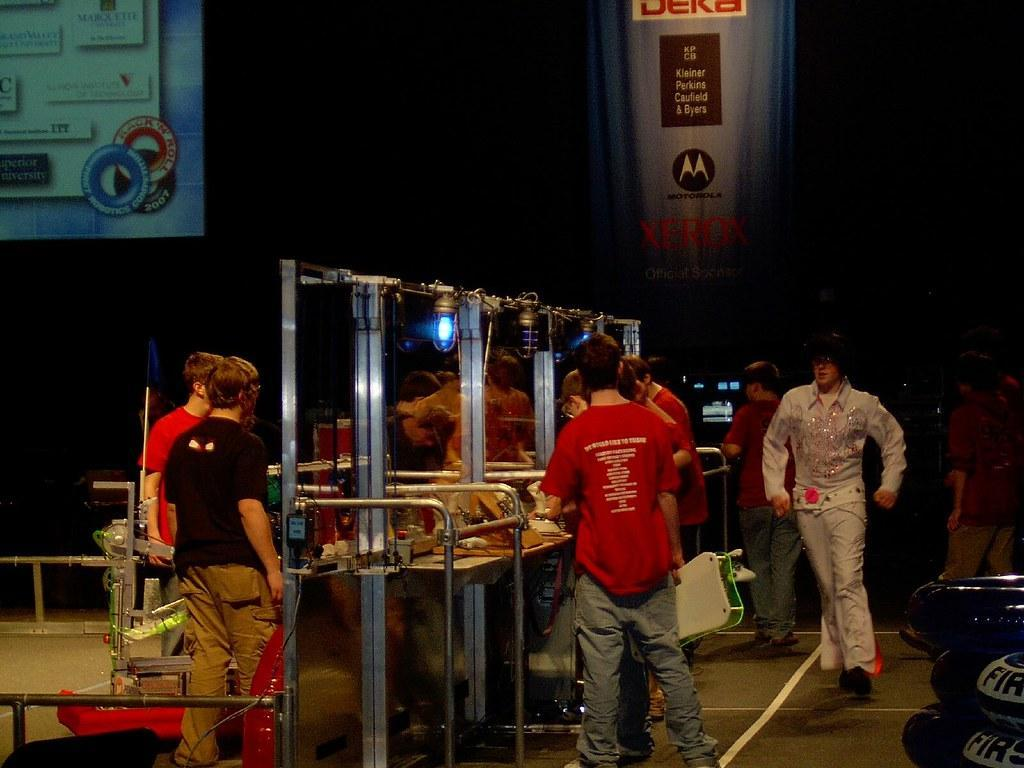robot: (54, 333, 297, 764)
